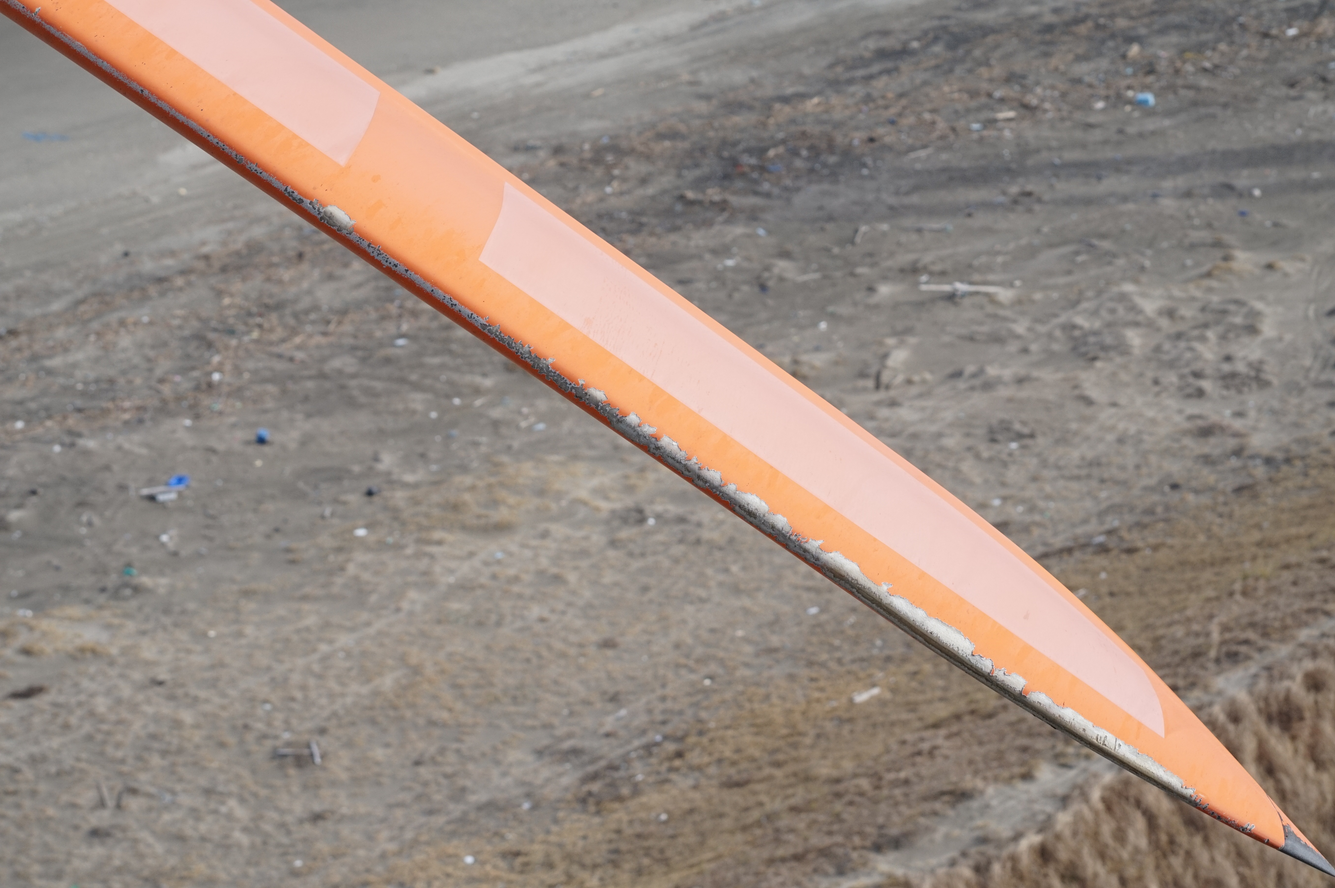Damage: (815, 556, 1183, 796), (578, 393, 823, 557), (251, 167, 483, 326), (477, 316, 597, 409), (1182, 791, 1254, 836)
